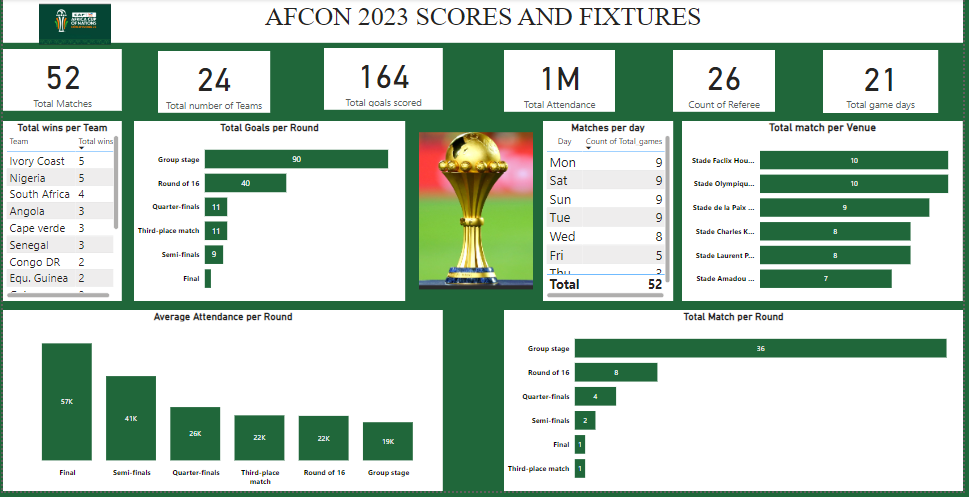

Layout of this report page (visuals, bound fields, positions):
{"tool":"powerbi","page":{"name":"Page 1","canvas":[1600,820],"ordinal":0},"visuals":[{"type":"textbox","box":[0,0,1600,73.3],"z":0},{"type":"image","box":[54.3,0,130,82.9],"z":1000},{"type":"image","box":[688.3,100,200,505],"z":2000},{"type":"clusteredColumnChart","title":"Average Attendance per Round","fields":{"Y":["Avg(SandF.Attendance)"],"Category":["SandF.Round"]},"box":[0,518.3,733.3,301.7],"z":3000},{"type":"card","fields":{"Values":["Sum(SandF.Attendance)"]},"box":[835,85,185,103.3],"z":4000},{"type":"card","fields":{"Values":["CountNonNull(SandF.Round)"]},"box":[0,83.3,198.3,103.3],"z":5000},{"type":"card","fields":{"Values":["Count(SandF.Team_Home)"]},"box":[258.3,86.7,186.7,103.3],"z":6000},{"type":"card","fields":{"Values":["Sum(SandF.Total_games)"]},"box":[535,81.7,198.3,103.3],"z":7000},{"type":"card","fields":{"Values":["Count(SandF.Referee)"]},"box":[1116.7,85,170,103.3],"z":8000},{"type":"card","fields":{"Values":["Count(SandF.Date)"]},"box":[1366.7,85,191.7,105],"z":9000},{"type":"clusteredBarChart","title":"Total Match per Round","fields":{"Category":["SandF.Round"],"Y":["CountNonNull(SandF.Total_games)"]},"box":[835,518.3,765,301.7],"z":10000},{"type":"tableEx","title":"Total wins per Team","fields":{"Values":["wins.Team","wins.Total wins"]},"box":[0,203.3,198.3,300],"z":11000},{"type":"clusteredBarChart","title":" Total match per Venue","fields":{"Category":["SandF.Venue"],"Y":["CountNonNull(SandF.Total_games)"]},"box":[1131.7,203.3,468.3,300],"z":12000},{"type":"tableEx","title":"Matches per day","fields":{"Values":["SandF.Day","CountNonNull(SandF.Total_games)"]},"box":[900,203.3,216.7,300],"z":13000},{"type":"clusteredBarChart","title":"Total Goals per Round","fields":{"Category":["SandF.Round"],"Y":["Sum(SandF.Total_games)"]},"box":[218.3,203.3,451.7,300],"z":14000}]}

Visuals, with their boxes in screenshot pixels (x1, y1, x2, y2), scaled from the page's 1600x820 canvas onto the 969x497 screenshot:
textbox: <bbox>0, 0, 968, 44</bbox>
image: <bbox>33, 0, 112, 50</bbox>
image: <bbox>417, 61, 538, 367</bbox>
"Average Attendance per Round" clusteredColumnChart: <bbox>0, 314, 444, 496</bbox>
card - Sum(SandF.Attendance): <bbox>506, 52, 618, 114</bbox>
card - CountNonNull(SandF.Round): <bbox>0, 50, 120, 113</bbox>
card - Count(SandF.Team_Home): <bbox>156, 53, 270, 115</bbox>
card - Sum(SandF.Total_games): <bbox>324, 50, 444, 112</bbox>
card - Count(SandF.Referee): <bbox>676, 52, 779, 114</bbox>
card - Count(SandF.Date): <bbox>828, 52, 944, 115</bbox>
"Total Match per Round" clusteredBarChart: <bbox>506, 314, 968, 496</bbox>
"Total wins per Team" tableEx: <bbox>0, 123, 120, 305</bbox>
" Total match per Venue" clusteredBarChart: <bbox>685, 123, 968, 305</bbox>
"Matches per day" tableEx: <bbox>545, 123, 676, 305</bbox>
"Total Goals per Round" clusteredBarChart: <bbox>132, 123, 406, 305</bbox>
